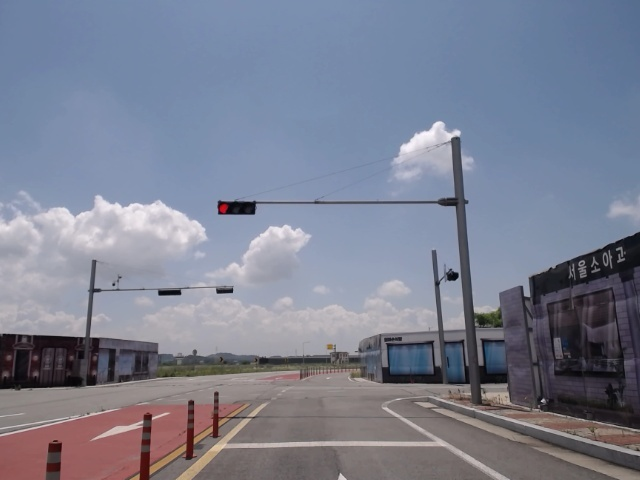red_3: (216, 199, 258, 216)
